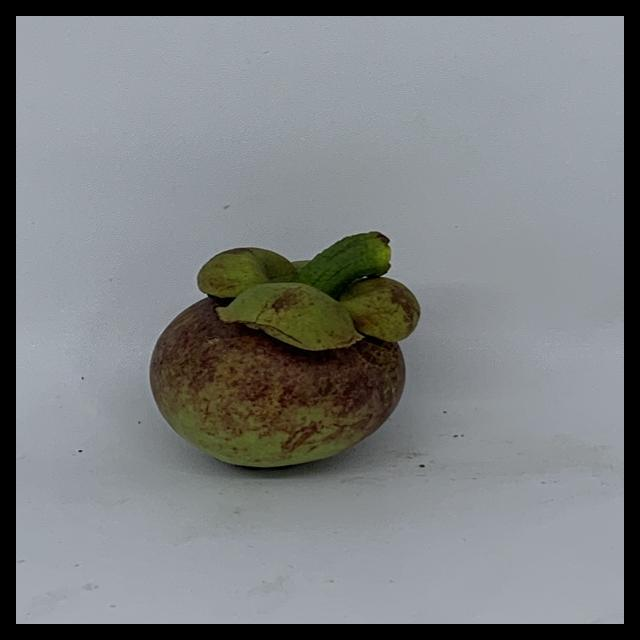mangosteen: (138, 228, 480, 490)
